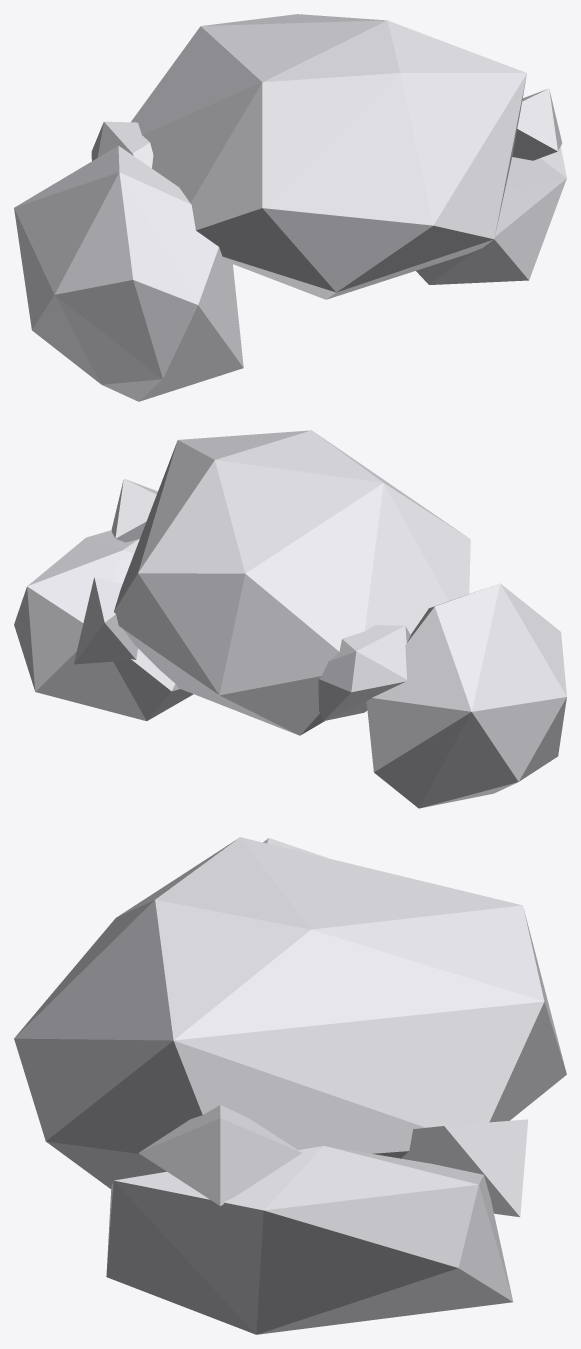
File: Cloud_3_pal.fbx
3 renders of one model, top to bottom at view 1: azimuth 30°, elevation 25°; view 2: azimuth 150°, elevation 25°; view 3: azimuth 270°, elevation 25°, orthographic. The views are drawn at different scales.
Visible parts, largest first — view 1: Cloud_3_pal; view 2: Cloud_3_pal; view 3: Cloud_3_pal.
Boxes of the visible parts, left/top/right/bottom form: Cloud_3_pal: left=14, top=14, right=566, bottom=401; Cloud_3_pal: left=14, top=430, right=566, bottom=808; Cloud_3_pal: left=14, top=837, right=566, bottom=1334.
Bounding box in the file's own units: 172 × 96.88 × 119.
